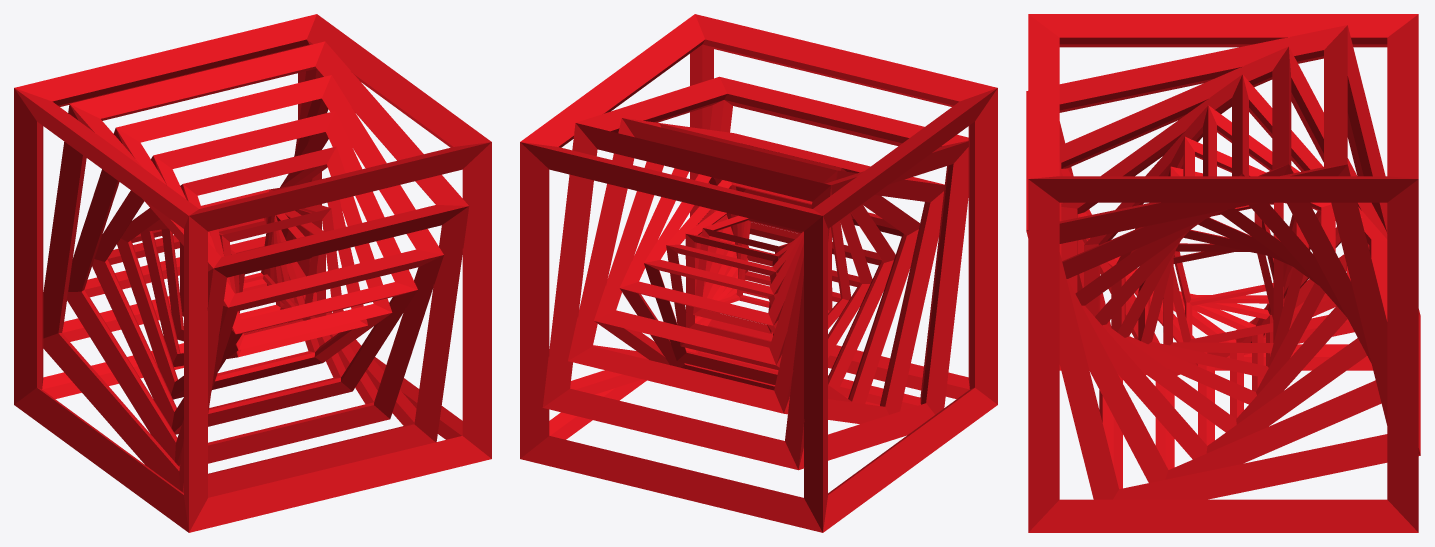
3 renders of one model, left to right at view 1: azimuth 30°, elevation 25°; view 2: azimuth 150°, elevation 25°; view 3: azimuth 270°, elevation 25°, orthographic. The views are drawn at different scales.
Parts seen in each view (by area): view 1: Cube; view 2: Cube; view 3: Cube.
Part boxes in pixels (x1,y1,x2,y2): Cube: (14,14,491,532); Cube: (520,14,997,532); Cube: (1026,14,1420,532).
Size of the model in its own units: 212 by 215 by 215.
